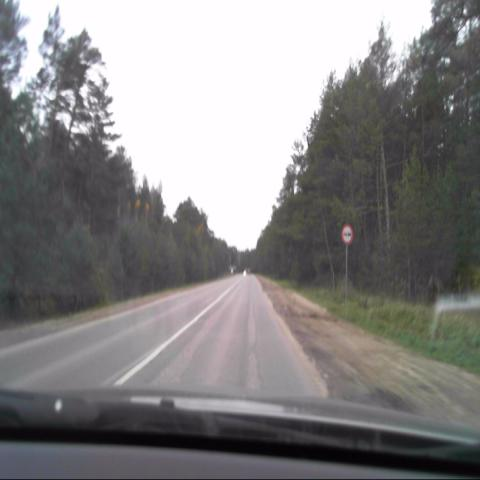3_20: (341, 224, 353, 245)
